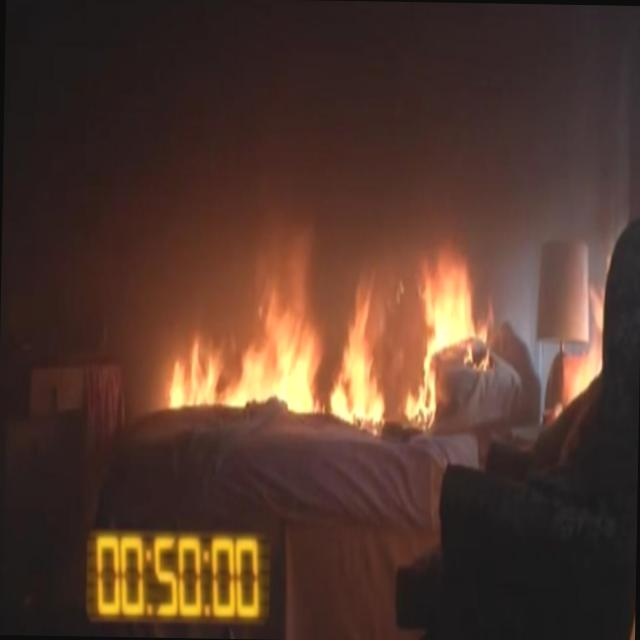fire: (173, 239, 476, 422)
